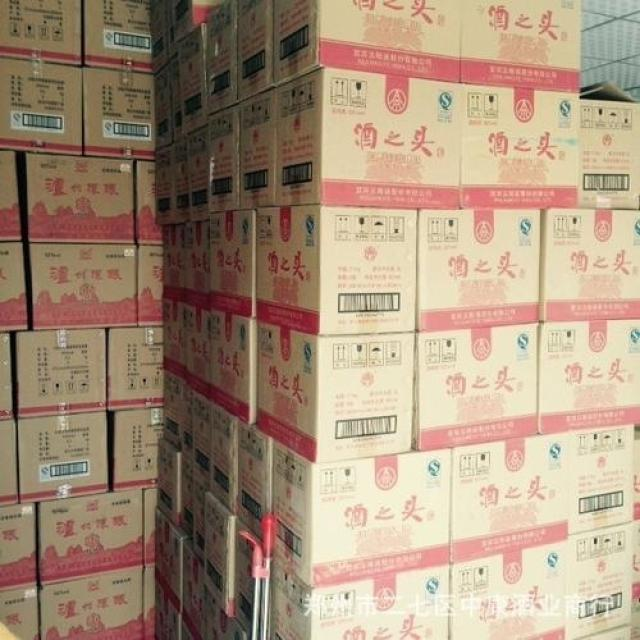box: (273, 438, 453, 589), (274, 68, 463, 209), (253, 319, 416, 463), (257, 205, 419, 337), (273, 0, 462, 88), (412, 324, 539, 452), (451, 431, 570, 566), (416, 207, 543, 333), (268, 554, 449, 640), (460, 83, 580, 209), (449, 538, 568, 640), (538, 319, 640, 435), (539, 209, 640, 321), (461, 0, 581, 93), (24, 151, 136, 243), (38, 489, 143, 586), (28, 243, 138, 330), (17, 328, 108, 419), (18, 411, 108, 503), (566, 521, 635, 640), (577, 81, 640, 210), (0, 58, 83, 155), (568, 425, 635, 538), (41, 568, 145, 640), (82, 67, 155, 161), (209, 308, 257, 426), (209, 207, 257, 319), (82, 0, 154, 73), (106, 326, 165, 411), (237, 420, 274, 544), (238, 88, 275, 210), (114, 407, 164, 493), (204, 490, 237, 617), (174, 23, 209, 137), (237, 0, 274, 104), (205, 0, 238, 115), (155, 507, 189, 614), (206, 104, 239, 212), (234, 515, 262, 636), (0, 502, 37, 591), (210, 402, 239, 515), (184, 298, 211, 399), (201, 585, 250, 640), (0, 241, 28, 333), (184, 125, 210, 221), (136, 160, 163, 246), (183, 220, 211, 302), (183, 536, 205, 640), (137, 243, 164, 326), (172, 0, 225, 42), (157, 438, 182, 527), (0, 148, 23, 241), (0, 586, 38, 640), (193, 389, 212, 490), (164, 293, 186, 376), (164, 370, 186, 452), (161, 223, 184, 298), (155, 579, 183, 640), (0, 421, 19, 507), (155, 145, 175, 225), (154, 64, 173, 148), (168, 58, 186, 145), (174, 137, 191, 224), (193, 481, 210, 567), (150, 0, 168, 73), (0, 332, 13, 421), (143, 488, 157, 568), (142, 567, 156, 640), (182, 452, 193, 539), (182, 385, 193, 462), (165, 0, 178, 64), (183, 616, 201, 640)
